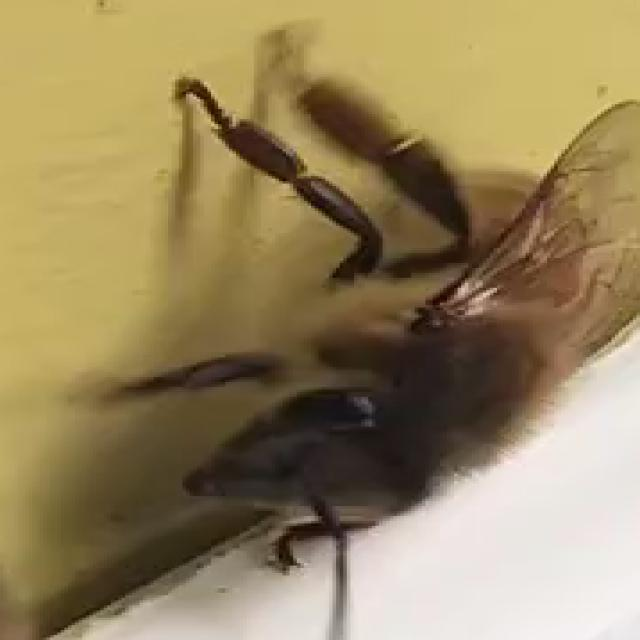honeybee: (119, 26, 640, 615)
